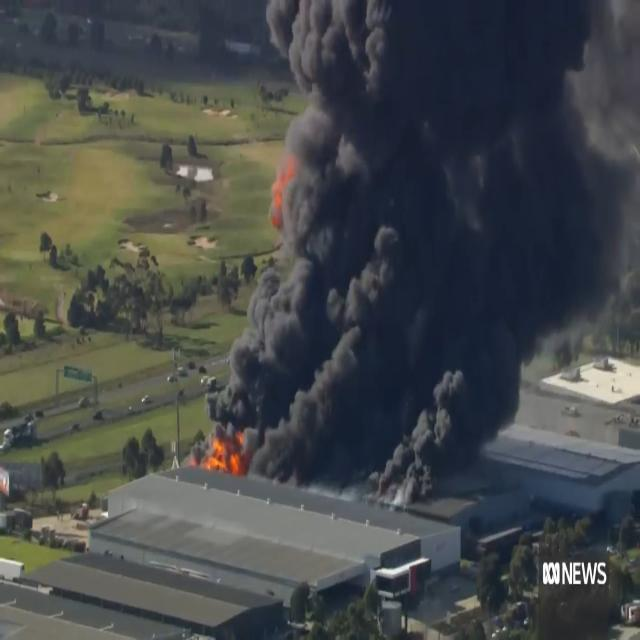fire: (206, 426, 248, 474)
